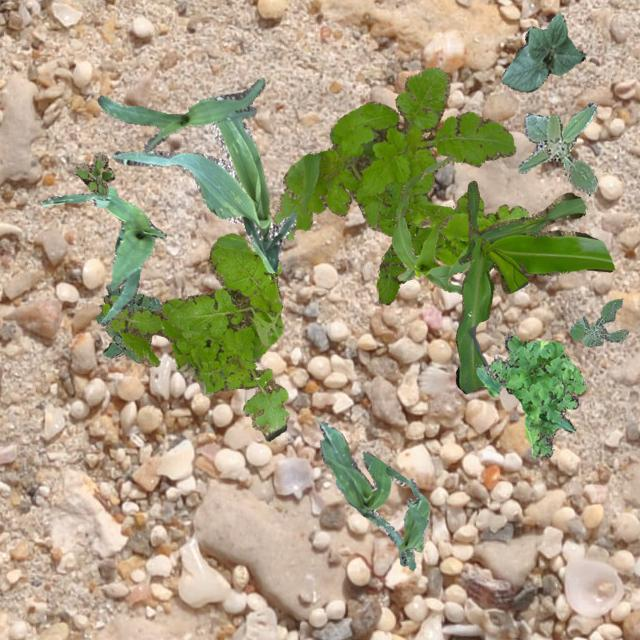crop: (454, 180, 614, 392), (112, 118, 296, 272), (40, 184, 166, 326), (318, 420, 414, 570), (96, 78, 262, 152), (391, 154, 471, 294), (500, 12, 584, 92), (398, 478, 428, 564)
weed: (272, 66, 514, 240), (99, 232, 288, 440), (474, 334, 586, 456), (408, 190, 528, 264), (376, 180, 442, 304), (518, 102, 596, 195), (95, 284, 162, 362), (568, 298, 628, 346), (74, 152, 114, 194)
